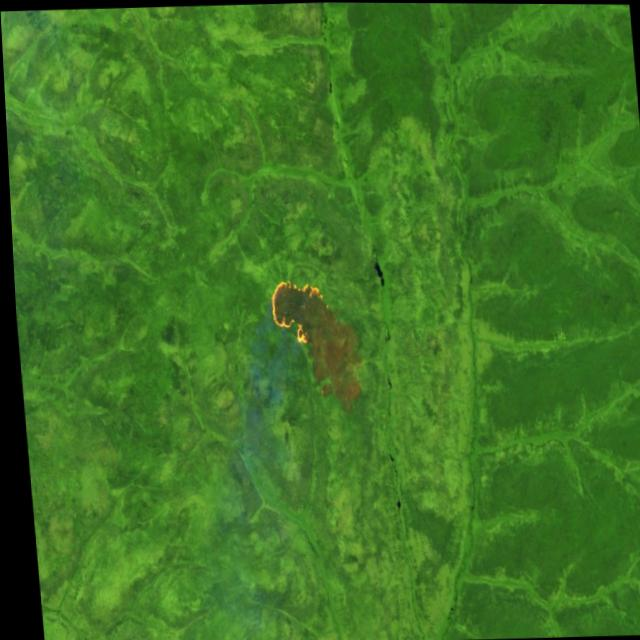fire: (252, 265, 324, 357)
